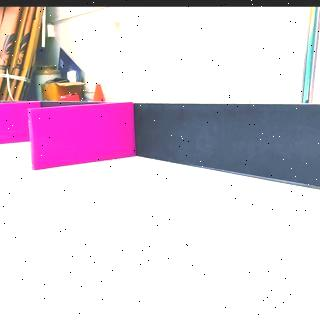xparking: (32, 108, 134, 161)
